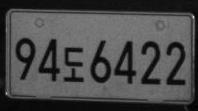2: (140, 39, 161, 85), (165, 40, 186, 85)
4: (113, 40, 137, 84), (37, 38, 60, 82)
6: (89, 39, 112, 84)
9: (14, 36, 36, 80)
도: (62, 46, 84, 83)
